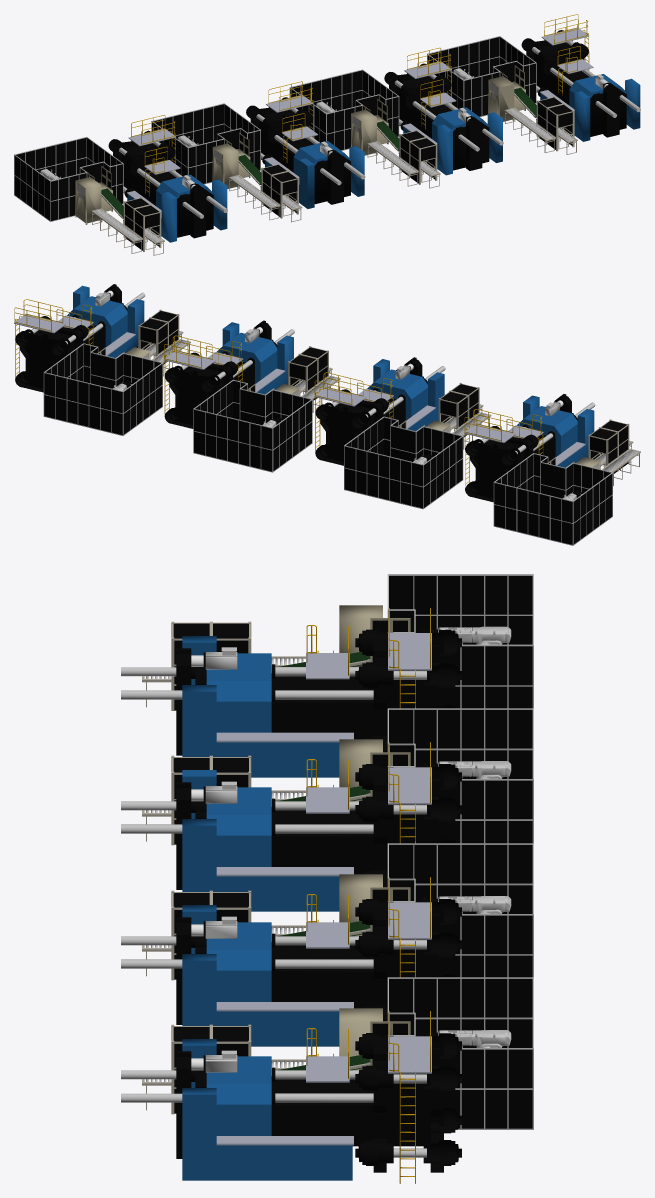
File: machine_all.glb
3 renders of one model, top to bottom at view 1: azimuth 30°, elevation 25°; view 2: azimuth 150°, elevation 25°; view 3: azimuth 270°, elevation 25°, orthographic. The views are drawn at different scales.
Parts seen in each view (by area): view 1: machine 01.002; view 2: machine 01.002; view 3: machine 01.002.
Part boxes in pixels (left/top/right/bottom): machine 01.002: left=14, top=14, right=640, bottom=255; machine 01.002: left=14, top=284, right=640, bottom=545; machine 01.002: left=121, top=574, right=533, bottom=1183.
Size of the model in its own units: 47.75 by 5.81 by 15.76.
